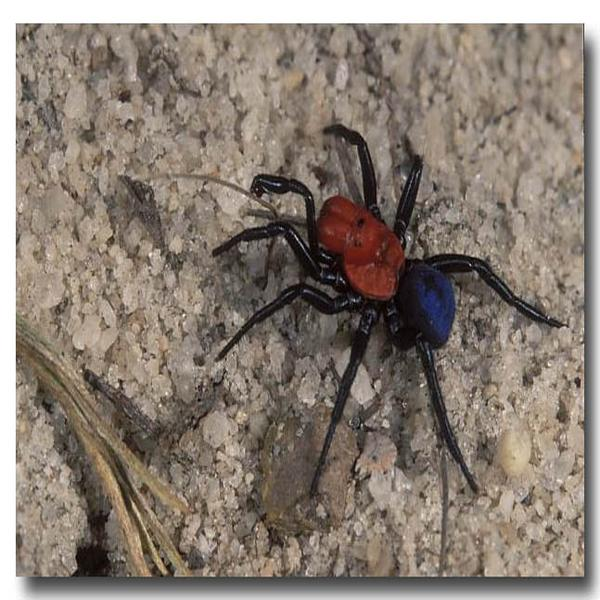Red Headed Mouse Spider: (214, 124, 538, 492)
